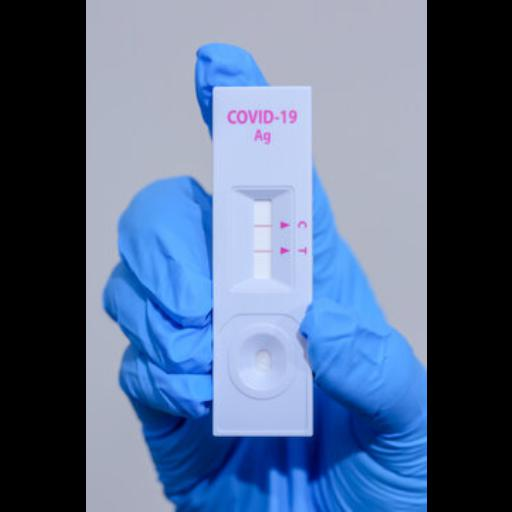Pos: (211, 88, 311, 436)
